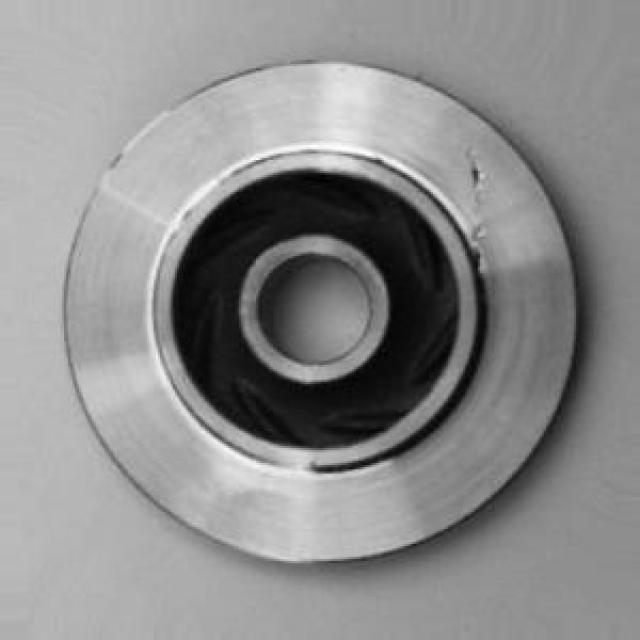Defect: (462, 152, 489, 199)
